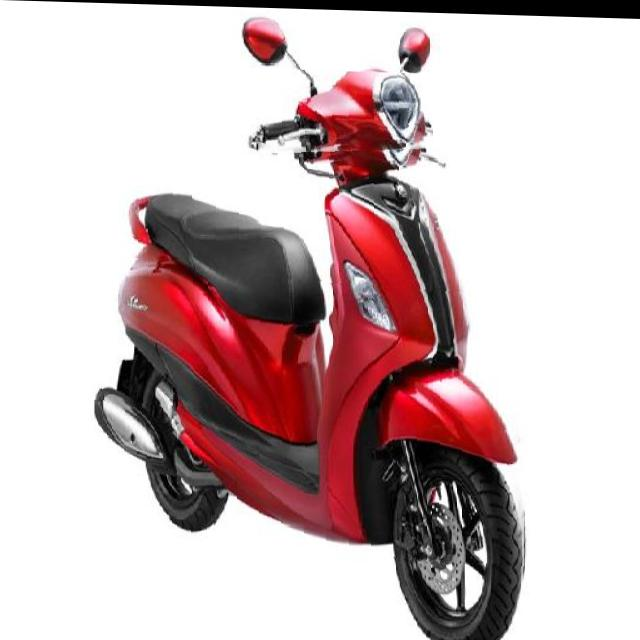All: (93, 61, 527, 640)
Head: (252, 67, 433, 156)
Tail: (122, 184, 192, 258)
